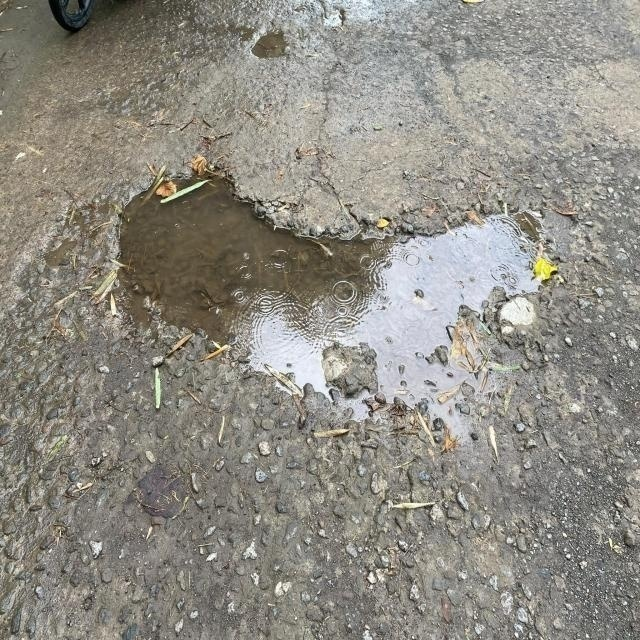pothole: (48, 78, 584, 533), (220, 12, 323, 78)
